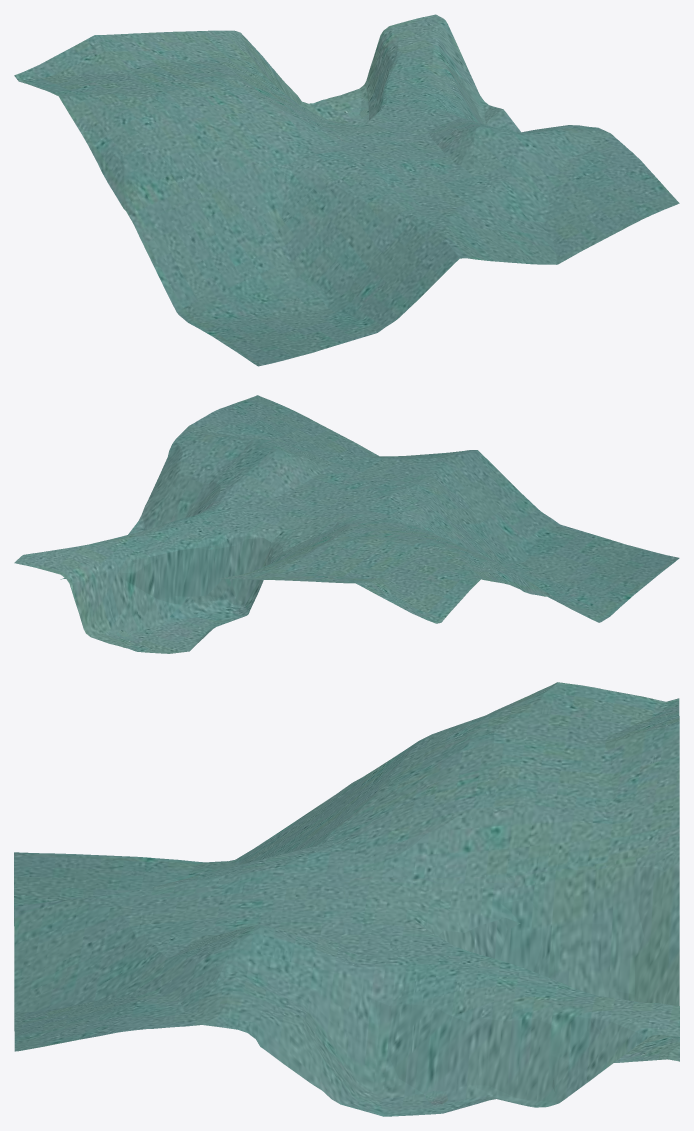
File: Tile_+008_+007_L19_00120.glb
3 views of the same model, one above another, from view 1: azimuth 30°, elevation 25°; view 2: azimuth 150°, elevation 25°; view 3: azimuth 270°, elevation 25° (orthographic). The views are drawn at different scales.
Visible parts, largest first — view 1: rtc; view 2: rtc; view 3: rtc.
Part boxes in pixels (left/top/right/bottom): rtc: left=14, top=14, right=679, bottom=366; rtc: left=14, top=395, right=679, bottom=653; rtc: left=14, top=682, right=679, bottom=1116.
Size of the model in its own units: 49.36 by 15.72 by 49.36.
Materials: 1 (1 with a texture image).
